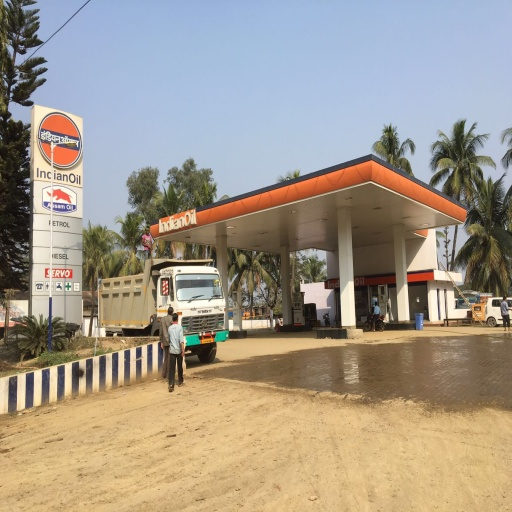roof: (144, 156, 470, 277)
